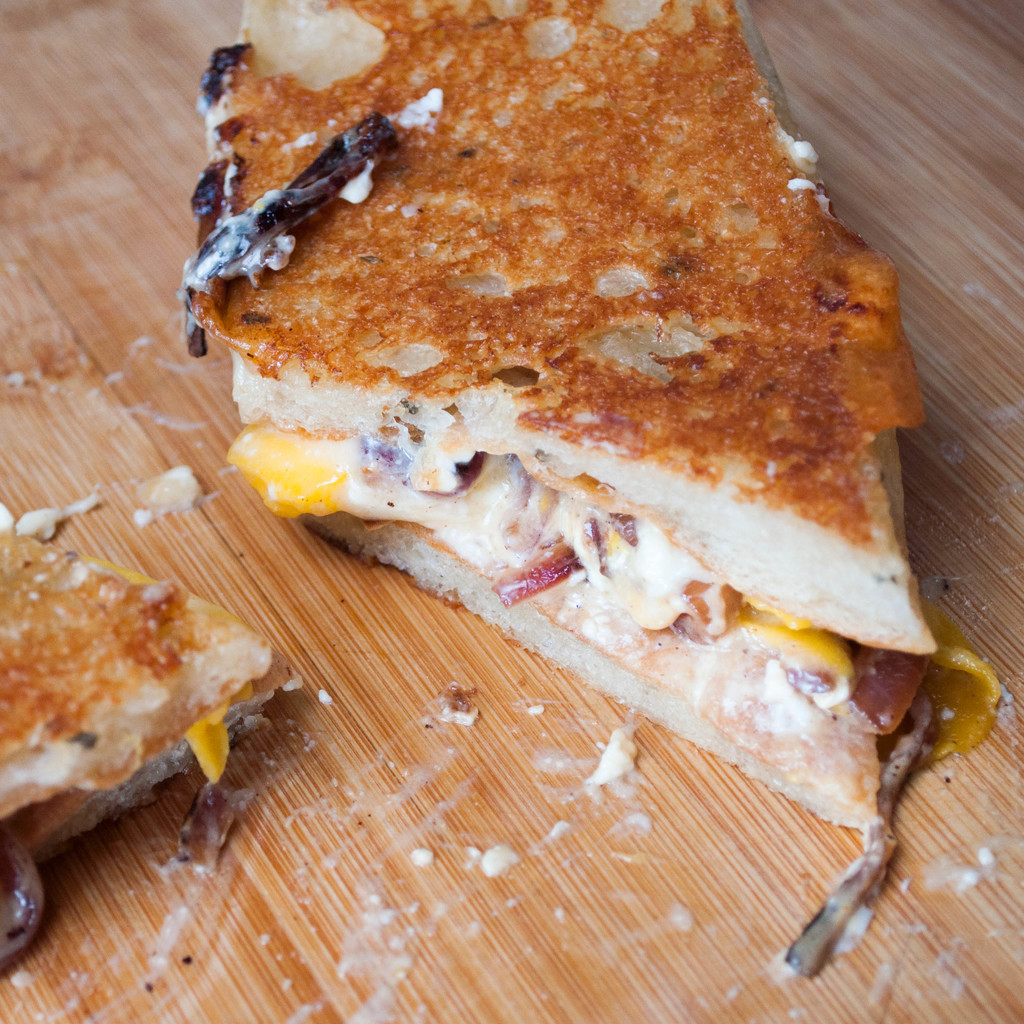sandwich: (181, 0, 937, 831), (0, 528, 286, 955)
